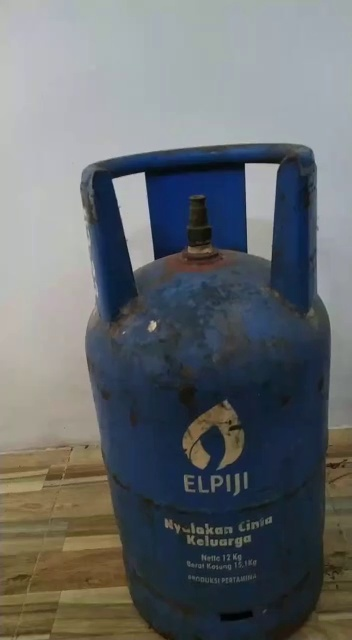blue_gas: (79, 144, 334, 640)
